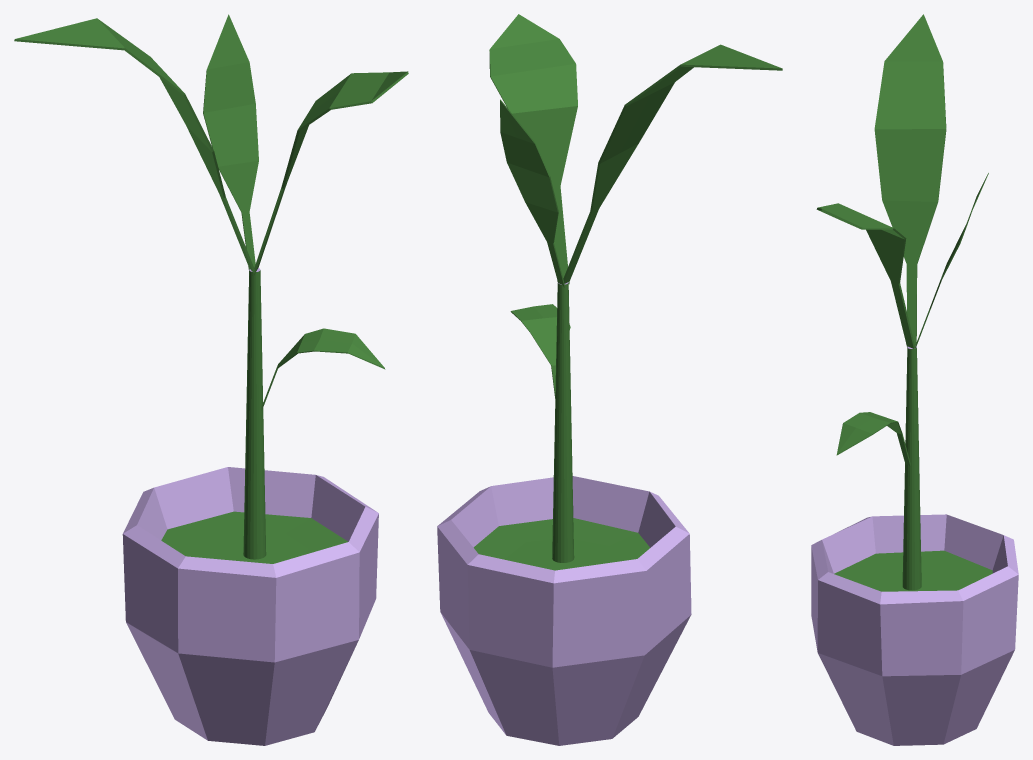
The model's file is Office_Flower.fbx.
3 renders of one model, left to right at view 1: azimuth 30°, elevation 25°; view 2: azimuth 150°, elevation 25°; view 3: azimuth 270°, elevation 25°, orthographic. The views are drawn at different scales.
Visible parts, largest first — view 1: Office_Flower; view 2: Office_Flower; view 3: Office_Flower.
Boxes of the visible parts, box(x1,y1,x2,y2) form: Office_Flower: box(14, 14, 408, 745); Office_Flower: box(437, 14, 782, 745); Office_Flower: box(811, 14, 1018, 745).
Size of the model in its own units: 105 by 215 by 66.1.
